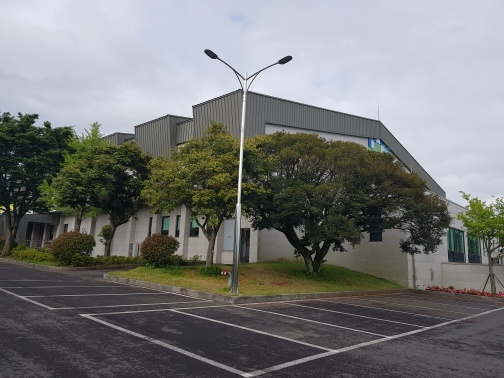Gym: (17, 86, 496, 294), (135, 203, 270, 269)
